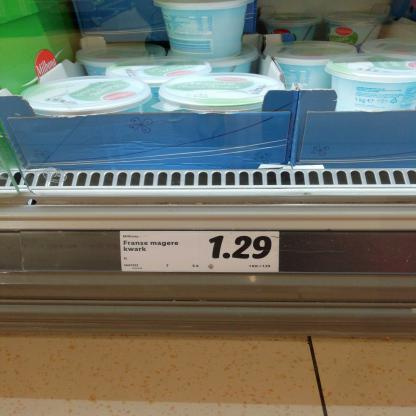prtg: (120, 232, 281, 273)
